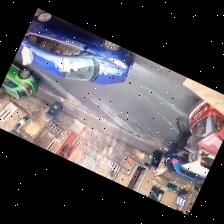person: (175, 118, 190, 159), (184, 135, 198, 160), (152, 151, 166, 175), (152, 155, 166, 175)
